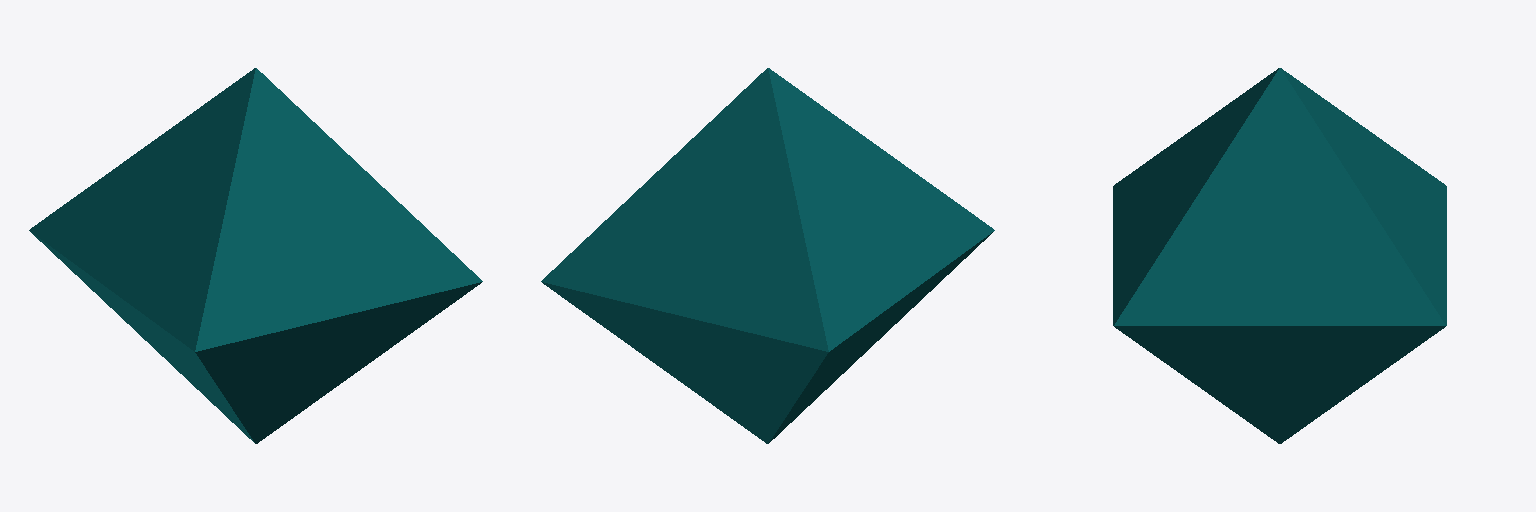
Rendered from ShooterEnemy.obj.
3 views of the same model, side by side, from view 1: azimuth 30°, elevation 25°; view 2: azimuth 150°, elevation 25°; view 3: azimuth 270°, elevation 25° (orthographic).
Visible parts, largest first — view 1: FrontTopLeftShell, FrontTopRightShell, BackTopLeftShell, FrontBottomLeftShell, FrontBottomRightShell, BackBottomLeftShell; view 2: BackTopLeftShell, BackTopRightShell, FrontTopLeftShell, BackBottomLeftShell, BackBottomRightShell, FrontBottomLeftShell; view 3: BackTopRightShell, FrontTopRightShell, FrontBottomRightShell, BackBottomRightShell, BackTopLeftShell, FrontTopLeftShell.
Part boxes in pixels (x1,y1,x2,y2): FrontTopLeftShell: (112,68,338,351); FrontTopRightShell: (256,68,482,316); BackTopLeftShell: (29,68,254,290); FrontBottomLeftShell: (113,292,338,443); FrontBottomRightShell: (257,282,481,443); BackBottomLeftShell: (31,232,249,438); BackTopLeftShell: (685,68,911,351); BackTopRightShell: (541,68,767,316); FrontTopLeftShell: (769,68,994,290); BackBottomLeftShell: (685,292,910,443); BackBottomRightShell: (542,282,766,443); FrontBottomLeftShell: (774,232,992,438); BackTopRightShell: (1280,68,1446,325); FrontTopRightShell: (1113,68,1279,325); FrontBottomRightShell: (1114,326,1279,443); BackBottomRightShell: (1280,326,1445,443); BackTopLeftShell: (1281,68,1446,255); FrontTopLeftShell: (1113,68,1278,255).
Size of the model in its own units: 1.2 by 1.5 by 1.2.